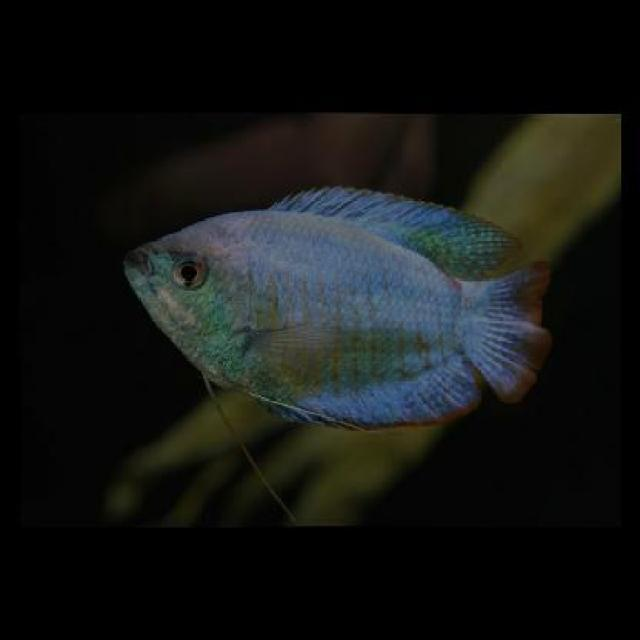Gourami: (118, 186, 553, 429)
